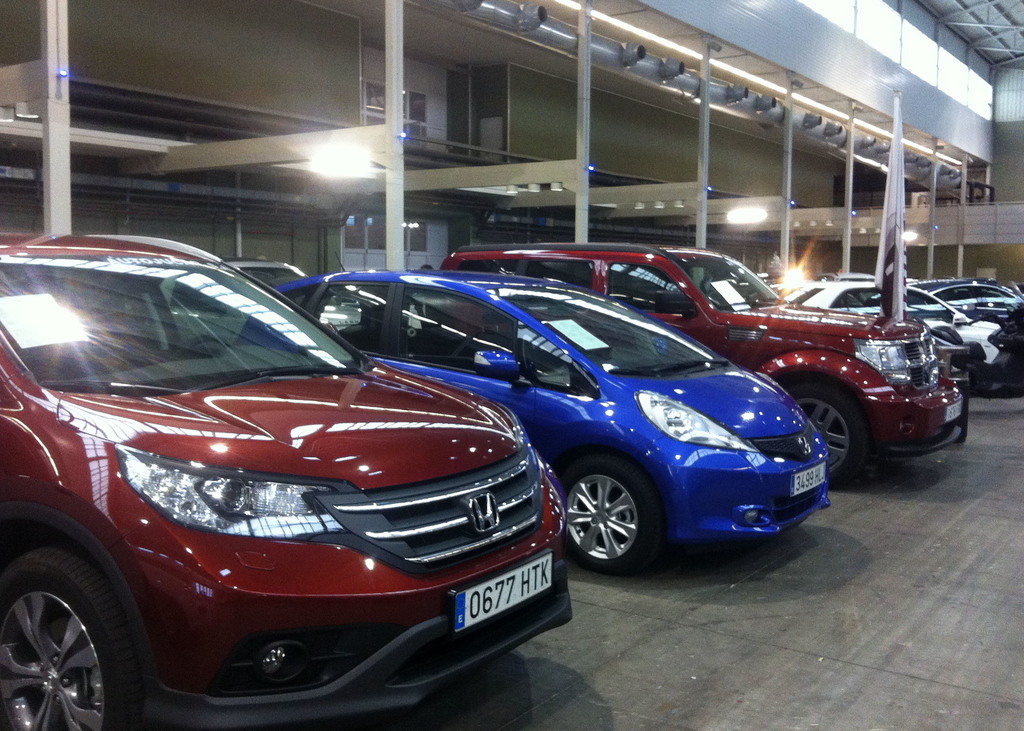Car: (0, 230, 1023, 730)
